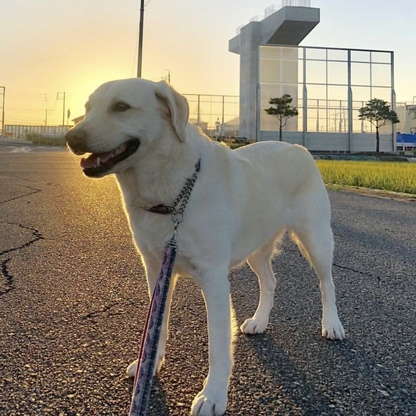labrado: (60, 75, 353, 416)
